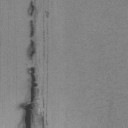slag inclusion: (18, 66, 39, 126), (40, 10, 50, 128), (26, 0, 38, 64)
